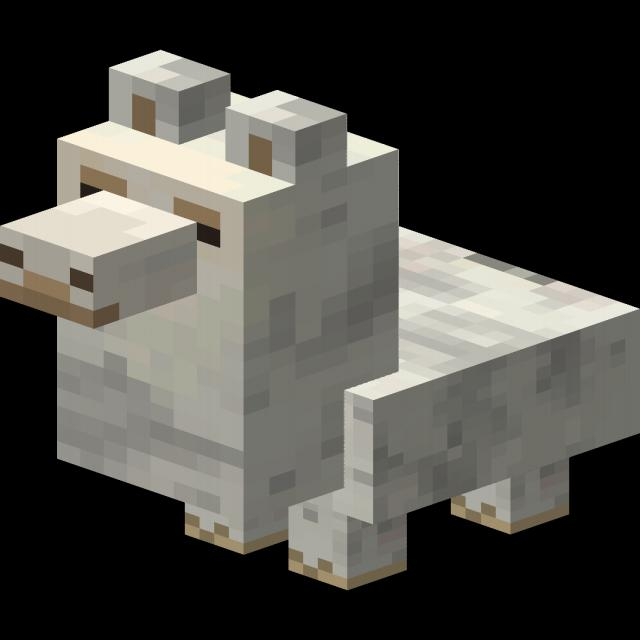Llama: (0, 49, 640, 592)
